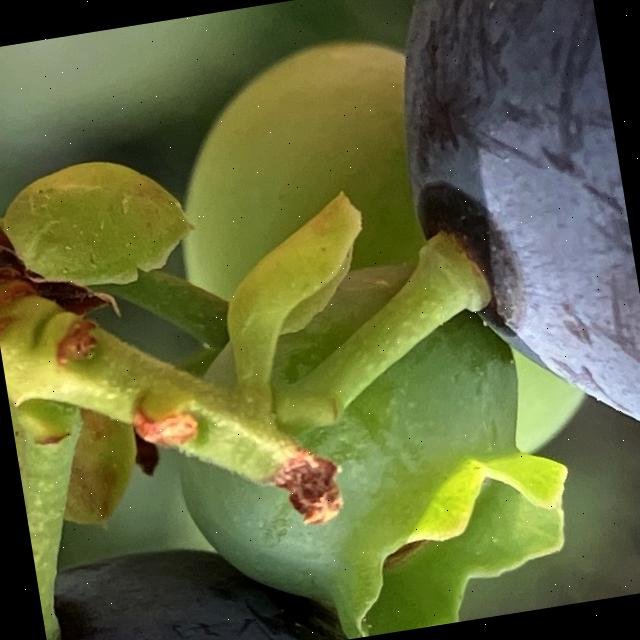Blueberries: (378, 0, 640, 536)
